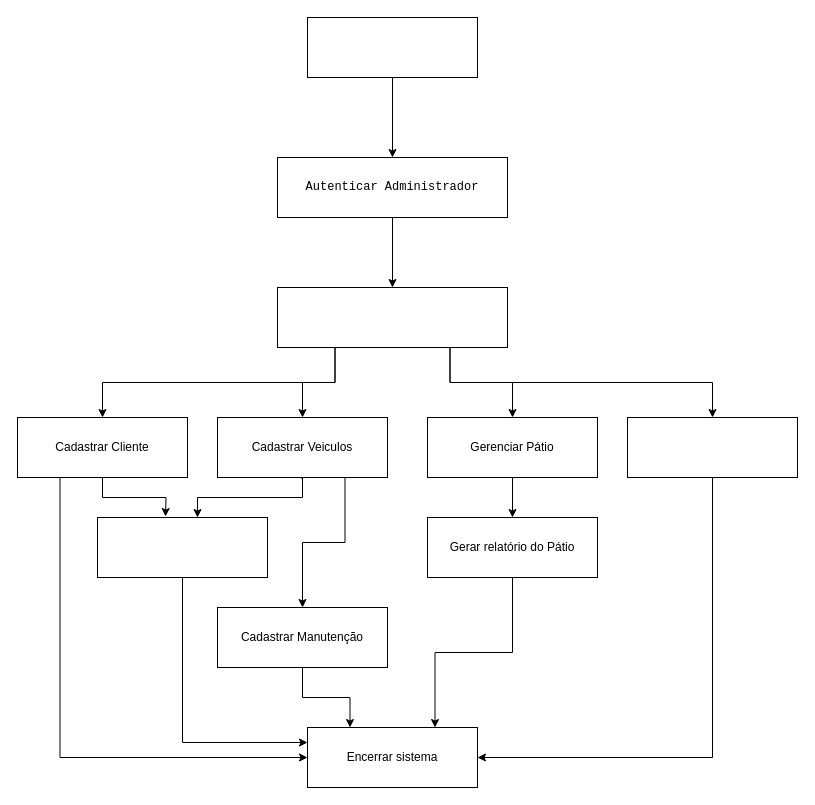
Some shapes in this 815 by 805 pixel diagram are drawn without their labels. The shapes that lost their labels are listed below. From the top down, each one's centre as x and y in pixels, then its label:
At point 392,47: "Iniciar Sistema".
At point 392,317: "Menu Administrador".
At point 712,447: "Filtrar Demanda".
At point 182,547: "Realizar Locação".
